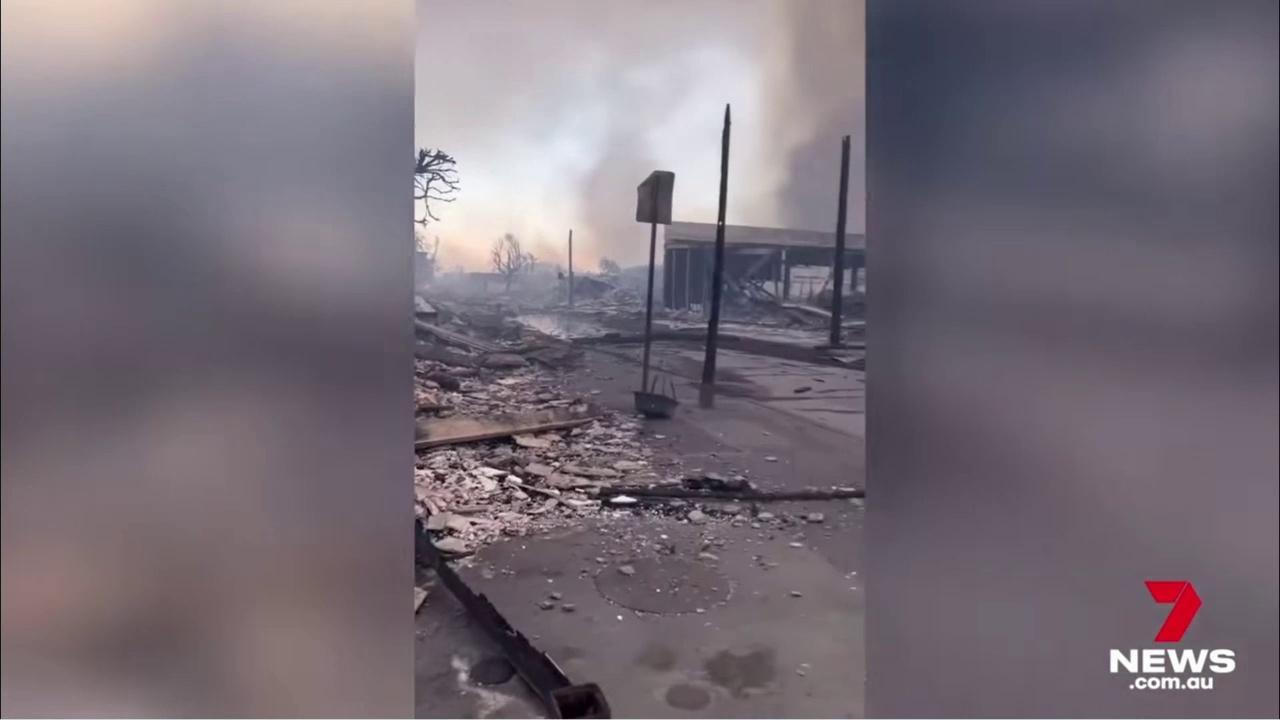smoke: (413, 0, 867, 311)
